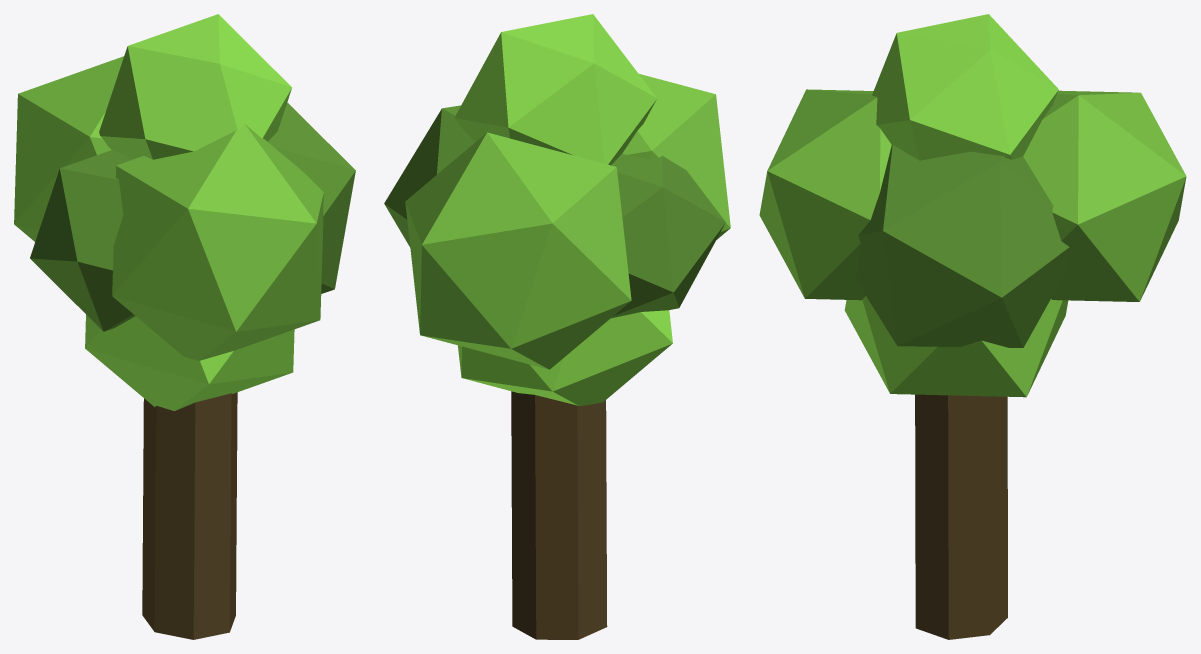
The model's file is arbol2.fbx.
The picture shows the model from 3 angles, left to right: view 1: azimuth 30°, elevation 25°; view 2: azimuth 150°, elevation 25°; view 3: azimuth 270°, elevation 25°; orthographic projection.
Parts seen in each view (by area): view 1: Icosphere.003, Cylinder, Icosphere.006, Icosphere.001, Icosphere, Icosphere.005, Icosphere.004; view 2: Icosphere.005, Cylinder, Icosphere.006, Icosphere.001, Icosphere, Icosphere.003, Icosphere.004; view 3: Icosphere.004, Icosphere.005, Cylinder, Icosphere.006, Icosphere.003, Icosphere.
Part boxes in pixels (x1=…): Icosphere.003: x1=112, y1=123, x2=323, y2=360; Cylinder: x1=142, y1=392, x2=237, y2=639; Icosphere.006: x1=99, y1=14, x2=291, y2=159; Icosphere.001: x1=30, y1=149, x2=135, y2=331; Icosphere: x1=85, y1=314, x2=294, y2=411; Icosphere.005: x1=14, y1=56, x2=123, y2=241; Icosphere.004: x1=268, y1=102, x2=355, y2=293; Icosphere.005: x1=405, y1=132, x2=631, y2=369; Cylinder: x1=511, y1=391, x2=607, y2=639; Icosphere.006: x1=454, y1=14, x2=656, y2=165; Icosphere.001: x1=611, y1=153, x2=725, y2=318; Icosphere: x1=458, y1=310, x2=672, y2=406; Icosphere.003: x1=622, y1=74, x2=730, y2=239; Icosphere.004: x1=384, y1=105, x2=475, y2=247; Icosphere.004: x1=856, y1=144, x2=1069, y2=347; Icosphere.005: x1=1023, y1=90, x2=1186, y2=301; Cylinder: x1=915, y1=394, x2=1007, y2=639; Icosphere.006: x1=872, y1=14, x2=1058, y2=160; Icosphere.003: x1=759, y1=89, x2=891, y2=300; Icosphere: x1=844, y1=296, x2=1068, y2=397.
Size of the model in its own units: 256 by 492 by 322.
